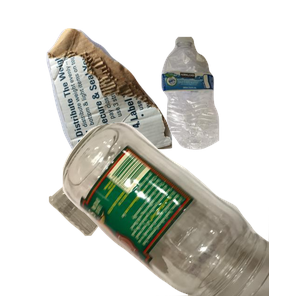cardboard: (44, 26, 209, 186)
glass: (60, 120, 300, 300)
plastic: (159, 34, 300, 176)
trash: (46, 144, 188, 300)
